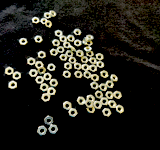nut: (37, 126, 47, 137), (49, 125, 59, 135), (47, 88, 57, 97), (103, 108, 112, 118), (45, 116, 54, 126), (5, 67, 14, 76), (50, 79, 59, 88), (42, 94, 51, 103), (95, 91, 104, 100), (114, 91, 123, 100), (116, 105, 125, 114), (87, 95, 96, 104), (94, 101, 103, 110), (77, 97, 86, 106), (87, 105, 96, 114), (63, 102, 72, 111), (69, 109, 78, 118), (35, 76, 45, 84), (100, 98, 110, 106), (19, 38, 28, 46), (13, 72, 21, 81), (9, 81, 17, 90), (38, 51, 46, 60), (50, 49, 59, 57), (38, 67, 47, 75), (44, 73, 52, 82), (40, 84, 49, 92), (64, 63, 73, 71), (63, 71, 72, 79), (97, 61, 105, 70), (100, 71, 109, 79), (110, 75, 119, 83), (90, 82, 99, 90), (106, 81, 115, 89), (85, 100, 94, 108), (55, 30, 63, 38), (67, 35, 75, 43), (28, 58, 36, 66), (57, 46, 65, 54), (76, 50, 84, 58), (48, 64, 56, 72), (60, 54, 68, 62), (96, 53, 104, 61), (81, 56, 89, 64), (74, 63, 82, 71), (82, 64, 90, 72), (90, 65, 98, 73), (75, 71, 83, 79), (84, 72, 92, 80), (92, 74, 100, 82), (100, 84, 108, 92), (106, 92, 114, 100), (109, 101, 117, 109), (84, 46, 93, 53), (35, 62, 44, 69), (29, 70, 38, 77), (50, 10, 57, 18), (44, 12, 52, 19), (32, 17, 40, 24), (45, 20, 52, 28), (35, 36, 43, 43), (60, 36, 68, 43), (74, 29, 82, 36), (53, 40, 61, 47), (63, 42, 71, 49), (75, 40, 82, 48), (86, 51, 94, 58), (69, 57, 77, 64), (90, 57, 97, 65), (41, 18, 48, 25), (70, 46, 77, 53), (87, 35, 94, 42), (66, 51, 74, 57), (86, 41, 93, 47), (83, 37, 88, 45)
